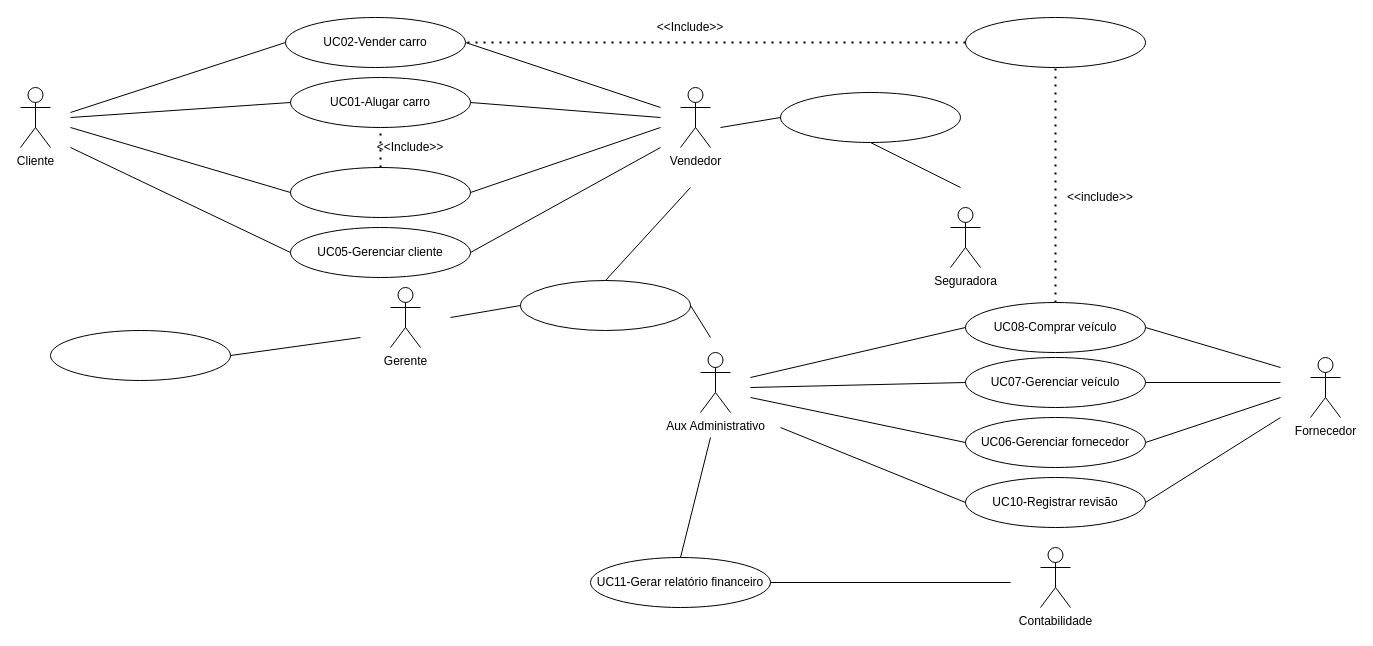
This 1373x646 diagram has some shape labels left out. Each missing label, with the centre of its shape:
"UC03-Gerar relatório Rentabilidade" belongs at pixel 140 355.
"UC04-Alterar tempo locação" belongs at pixel 380 192.
"UC09-Registrar sinistro" belongs at pixel 870 117.
"UC12-Gerenciar Funcionário" belongs at pixel 605 305.
"UC13-Atualizar Estoque" belongs at pixel 1055 42.
